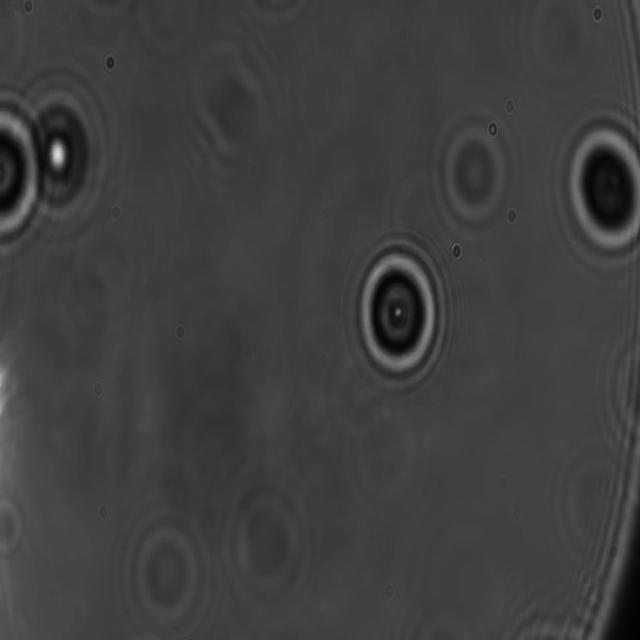LCELL: (348, 236, 448, 391)
